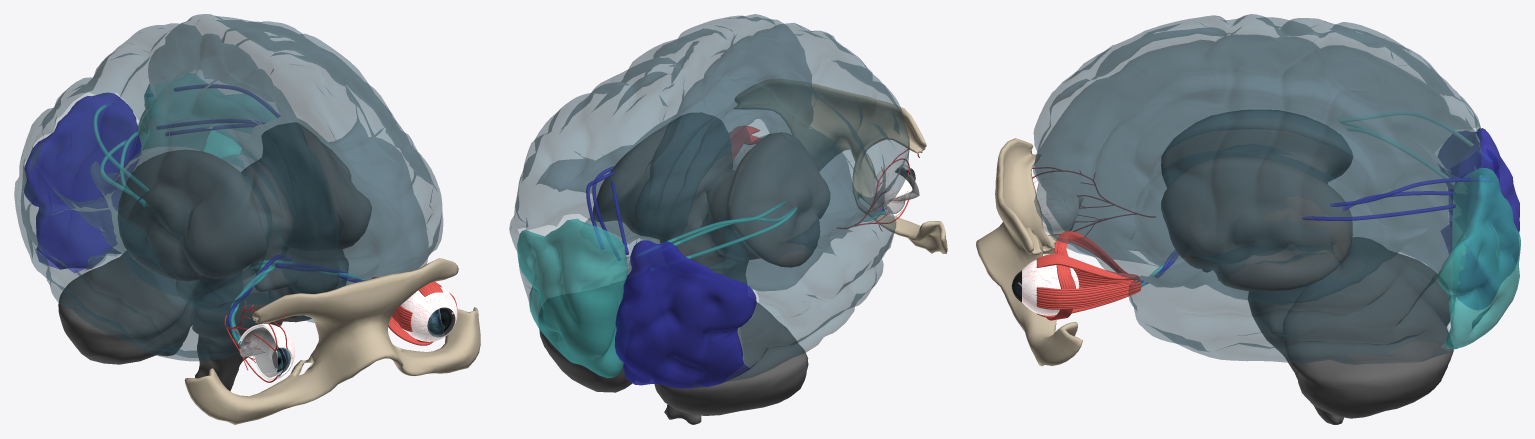
Rendered from vision.glb.
3 renders of one model, left to right at view 1: azimuth 30°, elevation 25°; view 2: azimuth 150°, elevation 25°; view 3: azimuth 270°, elevation 25°, orthographic. The views are drawn at different scales.
Visible parts, largest first — view 1: Group2, Group5, Group1, Group8, Group3, Group9, all1_nerv_v_mozg001, Line010, Line011, all1_steklovidnoe_telo003, all1_nerv_v_mozg002, Shape018 (+3 smaller); view 2: Group2, Group5, Group8, Group9, Group1, Group3, all1_nerv_v_mozg002, Line010, Line011, all1_steklovidnoe_telo003, Shape017, Object7047_0; view 3: Group2, Group5, Group3, Group9, Group1, Group8, Object7046_0, all1_nerv_v_mozg002, all1_nerv_v_mozg001, Object7048_0, Line011, Object7047_0 (+2 smaller).
Boxes of the visible parts, x1,y1,x2,y2 form: Group2: (14,14,443,361); Group5: (118,122,371,391); Group1: (184,258,480,424); Group8: (24,92,141,273); Group3: (58,247,348,364); Group9: (138,73,275,169); all1_nerv_v_mozg001: (401,287,457,341); Line010: (93,104,275,345); Line011: (147,84,364,282); all1_steklovidnoe_telo003: (239,327,289,377); all1_nerv_v_mozg002: (238,323,294,380); Shape018: (165,124,284,338); Group2: (509,14,909,382); Group5: (593,112,830,424); Group8: (614,240,756,388); Group9: (517,218,627,378); Group1: (734,79,947,253); Group3: (539,296,808,415); all1_nerv_v_mozg002: (871,163,912,216); Line010: (636,201,885,258); Line011: (586,171,628,254); all1_steklovidnoe_telo003: (884,167,919,213); Shape017: (650,207,797,270); Object7047_0: (729,126,759,160); Group2: (1033,14,1482,364); Group5: (1161,110,1352,424); Group3: (1283,237,1453,418); Group9: (1438,168,1520,348); Group1: (976,138,1083,366); Group8: (1438,128,1519,309); Object7046_0: (1036,268,1141,309); all1_nerv_v_mozg002: (1033,179,1078,234); all1_nerv_v_mozg001: (1022,259,1079,315); Object7048_0: (1046,231,1127,320); Line011: (1138,177,1492,284); Object7047_0: (1036,253,1140,317).
Size of what is drawn, in the model's own units: 0.1518 by 0.1611 by 0.2058.
Materials: 17 (7 with a texture image).
